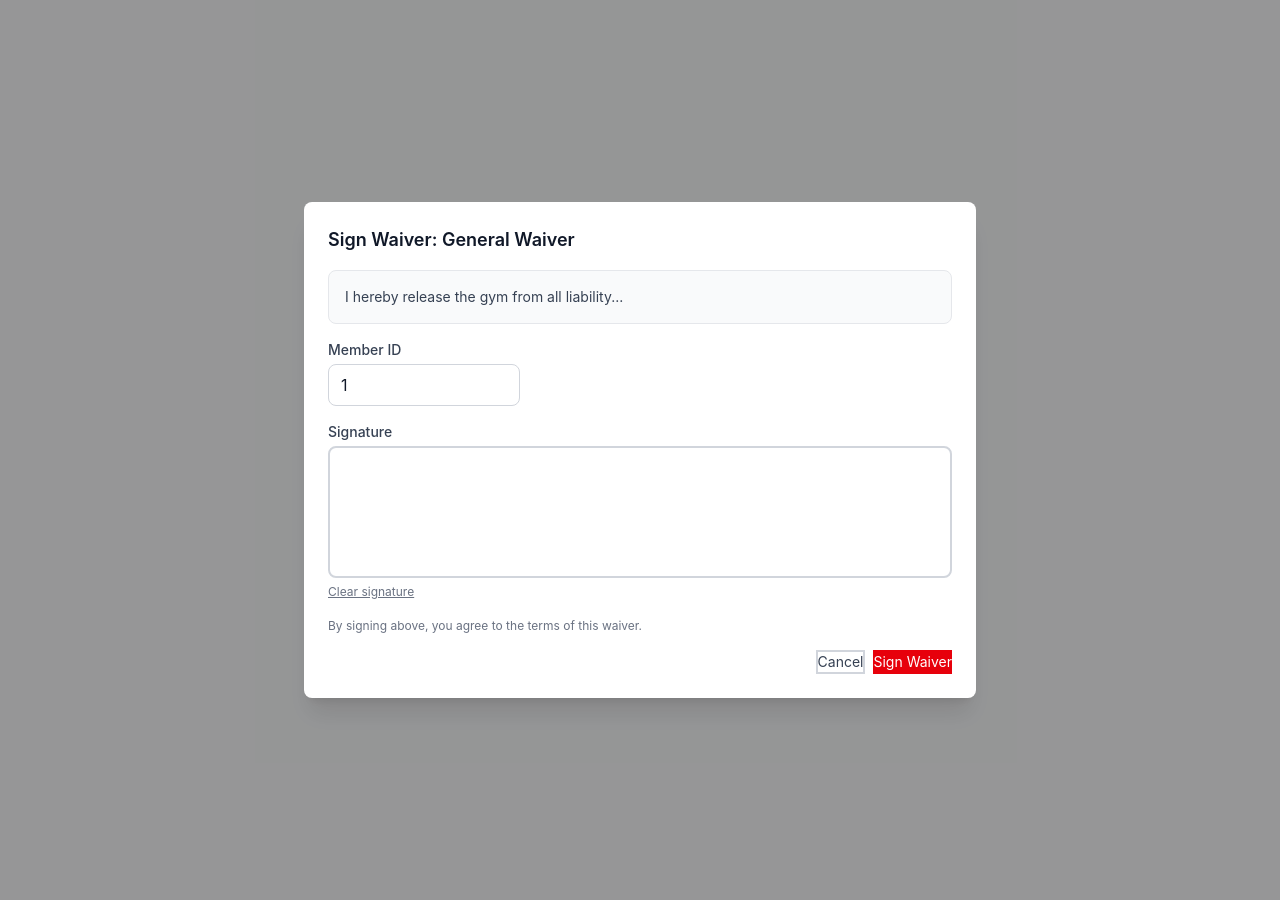
Scenario: SignWaiverModal › disables sign button while signing
Press the mouse on the drawing named "Signature canvas" at (640,512), box [330,448,950,576]
Click the button "Sign Waiver" at (913,662), box [874,650,952,674]
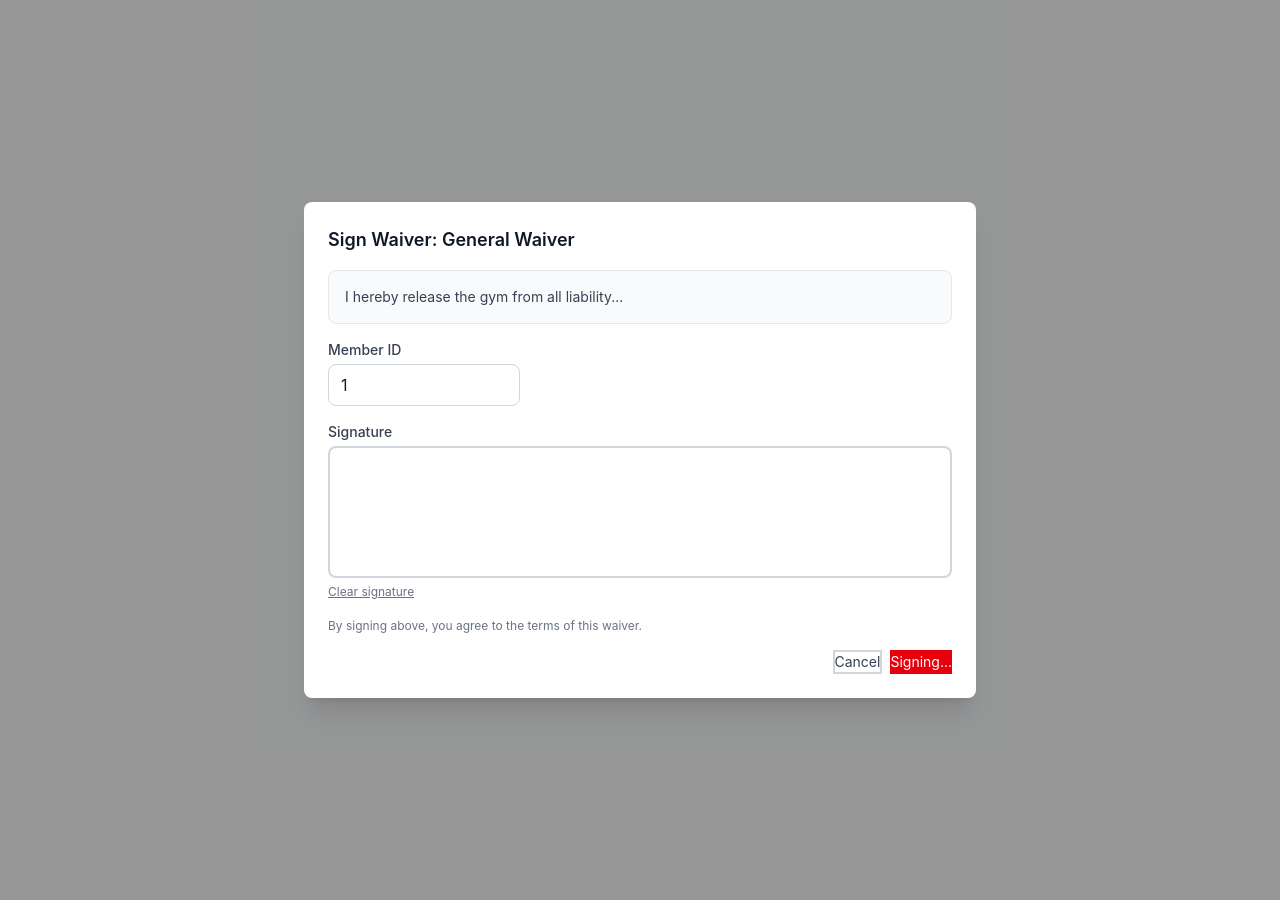
Now the button "Signing..." is disabled, box [890,650,952,674]
